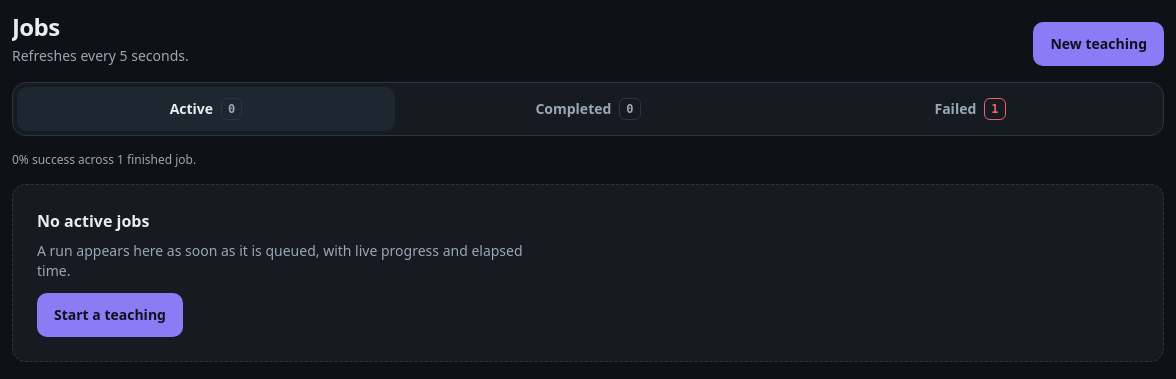
Test: Jobs rows › marks restart-interrupted jobs with the INTERRUPTED label
The width and height of the screenshot is (1176, 379).
Click the tab "Failed 1".
click(970, 109)  # box [781,87,1159,131]
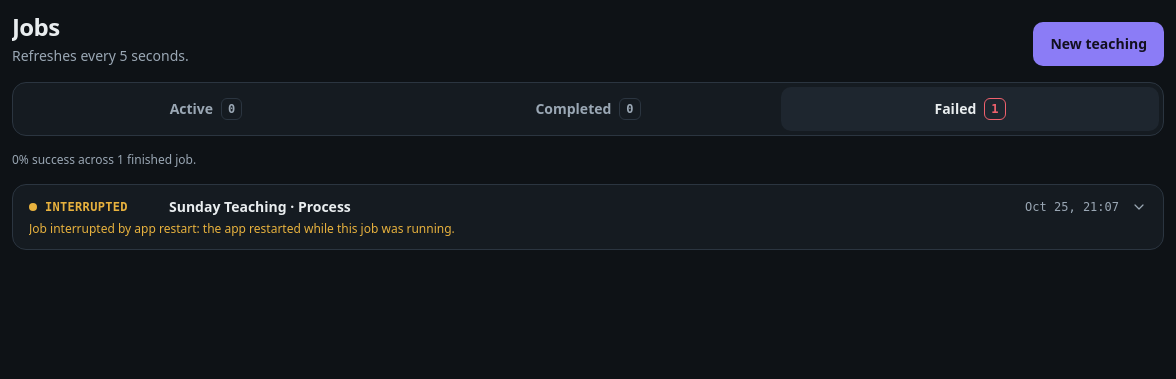
Now the text "INTERRUPTED" is shown, box [45,199,128,215]
